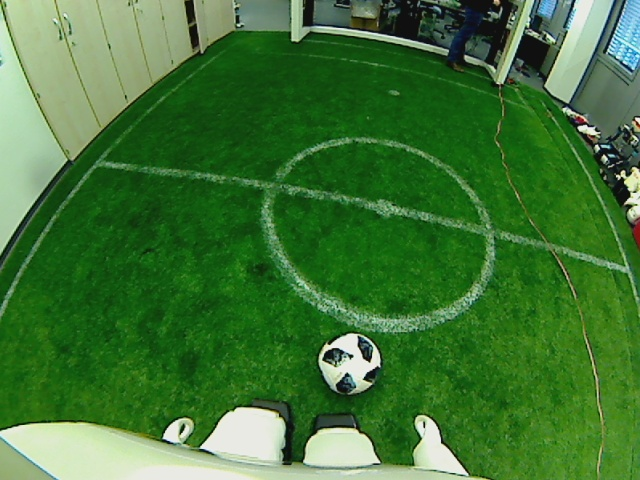ball: (317, 328, 384, 397)
